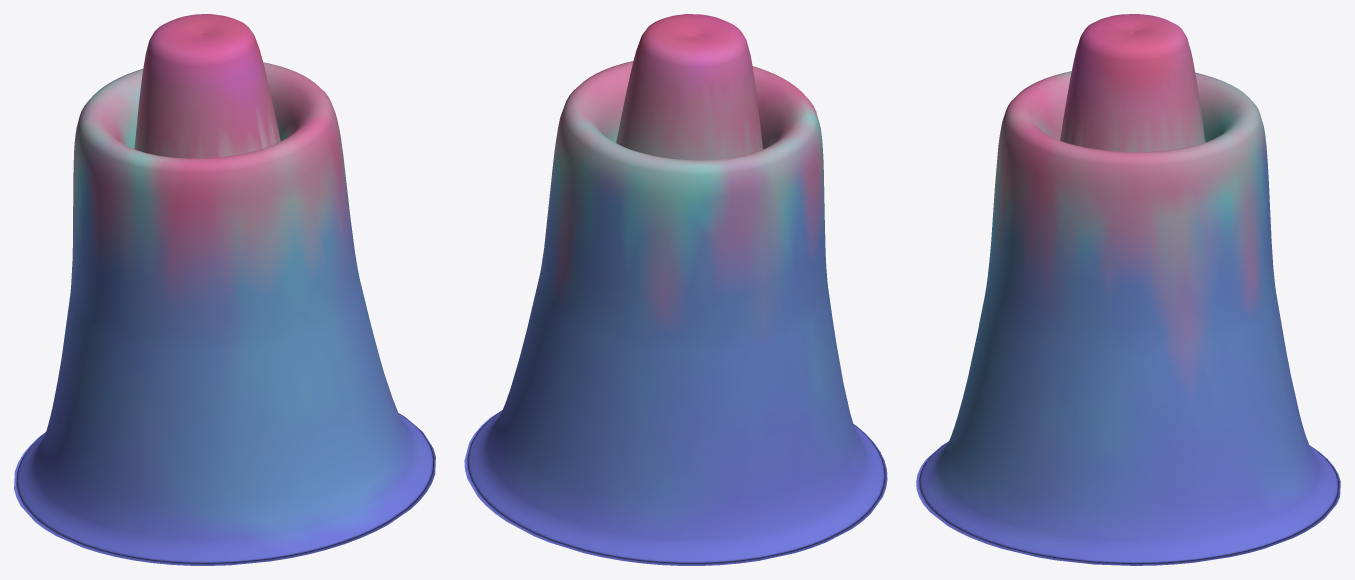
3 views of the same model, side by side, from view 1: azimuth 30°, elevation 25°; view 2: azimuth 150°, elevation 25°; view 3: azimuth 270°, elevation 25° (orthographic).
Visible parts, largest first — view 1: LOD 1_18409866040645993065_000c7580005880844991c3b836c91307; view 2: LOD 1_18409866040645993065_000c7580005880844991c3b836c91307; view 3: LOD 1_18409866040645993065_000c7580005880844991c3b836c91307.
Boxes of the visible parts, left/top/right/bottom form: LOD 1_18409866040645993065_000c7580005880844991c3b836c91307: left=14, top=14, right=435, bottom=565; LOD 1_18409866040645993065_000c7580005880844991c3b836c91307: left=464, top=14, right=887, bottom=565; LOD 1_18409866040645993065_000c7580005880844991c3b836c91307: left=916, top=14, right=1340, bottom=565.
Size of the model in its own units: 1.26 by 1.5 by 1.26.
